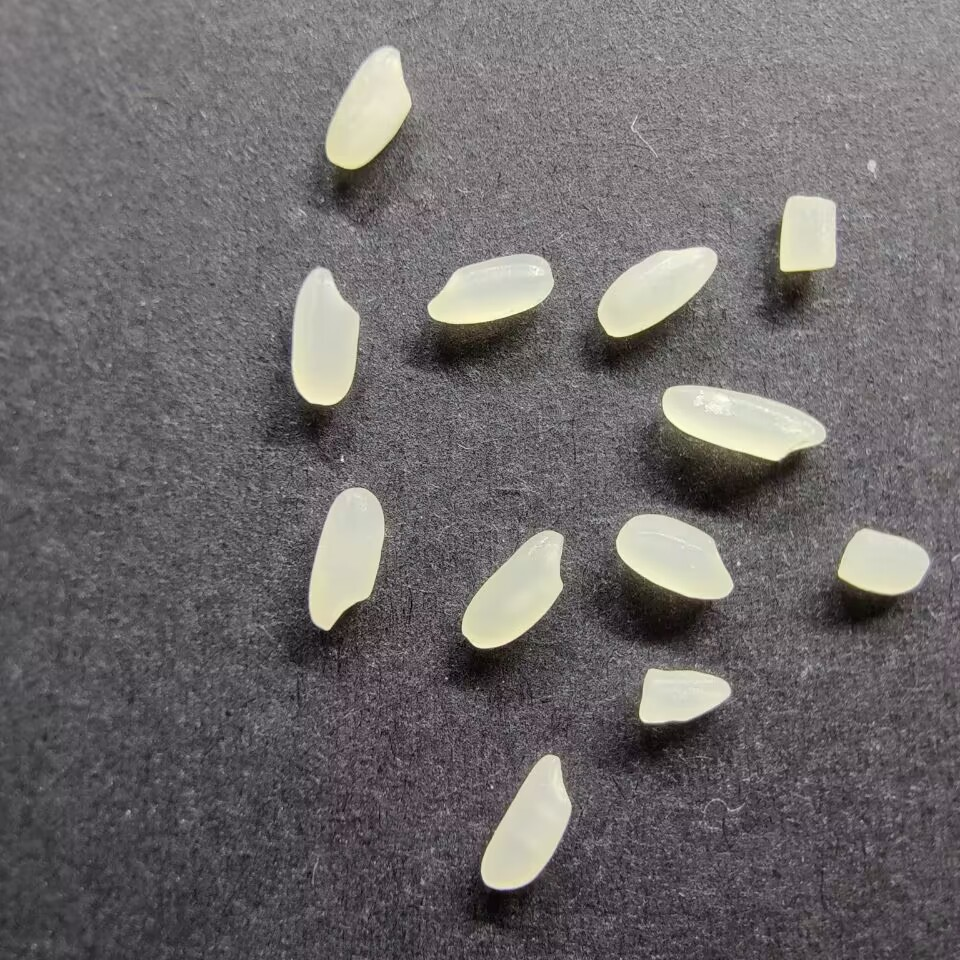broken: (835, 525, 931, 597), (636, 664, 736, 725), (776, 193, 842, 275)
rice: (478, 752, 575, 891), (459, 526, 567, 650), (660, 383, 828, 462), (304, 485, 386, 632), (594, 243, 719, 339), (321, 45, 414, 173), (613, 511, 736, 602), (288, 265, 361, 406), (424, 251, 554, 325)
